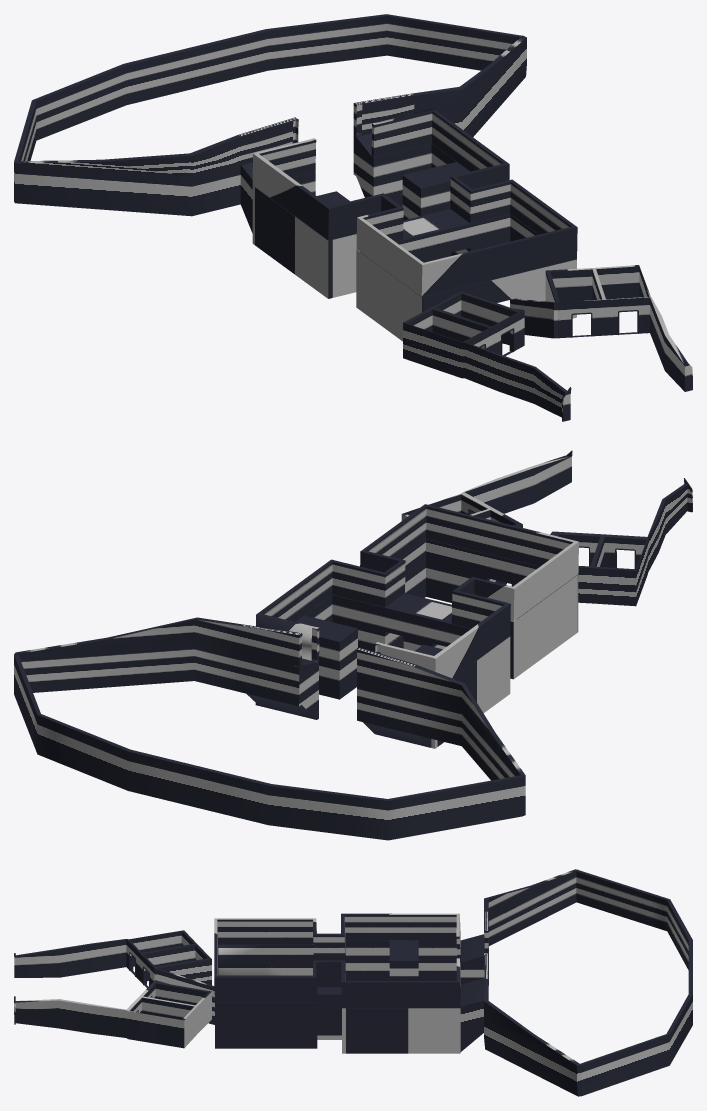
The model's file is ship internals.fbx.
3 views of the same model, one above another, from view 1: azimuth 30°, elevation 25°; view 2: azimuth 150°, elevation 25°; view 3: azimuth 270°, elevation 25° (orthographic). The views are drawn at different scales.
Parts seen in each view (by area): view 1: EngineRoom, Top-Back Room Walls, HangerRoomWalls, Bedrooms_Right, Modular Room, EngineRoomUpperWall, Bedrooms_Left, FrontRoomCorridorWalls, LowerConnectingCorridor; view 2: EngineRoom, Top-Back Room Walls, HangerRoomWalls, EngineRoomUpperWall, Modular Room, Bedrooms_Right, Bedrooms_Left, LowerConnectingCorridor; view 3: EngineRoom, Top-Back Room Walls, HangerRoomWalls, Modular Room, Bedrooms_Left, Bedrooms_Right, EngineRoomUpperWall, LowerConnectingCorridor, FrontRoomCorridorWalls.
Part boxes in pixels (bbox=[...]): EngineRoom: bbox=[14, 14, 526, 233]; Top-Back Room Walls: bbox=[252, 108, 577, 296]; HangerRoomWalls: bbox=[252, 143, 469, 298]; Bedrooms_Right: bbox=[403, 291, 571, 421]; Modular Room: bbox=[356, 213, 576, 341]; EngineRoomUpperWall: bbox=[14, 35, 526, 176]; Bedrooms_Left: bbox=[545, 265, 692, 391]; FrontRoomCorridorWalls: bbox=[502, 298, 557, 346]; LowerConnectingCorridor: bbox=[403, 210, 468, 255]; EngineRoom: bbox=[14, 641, 525, 840]; Top-Back Room Walls: bbox=[256, 504, 578, 678]; HangerRoomWalls: bbox=[255, 594, 510, 748]; EngineRoomUpperWall: bbox=[14, 617, 525, 776]; Modular Room: bbox=[399, 539, 578, 679]; Bedrooms_Right: bbox=[554, 478, 692, 606]; Bedrooms_Left: bbox=[401, 450, 572, 526]; LowerConnectingCorridor: bbox=[387, 594, 451, 649]; EngineRoom: bbox=[460, 870, 692, 1096]; Top-Back Room Walls: bbox=[214, 913, 460, 1007]; HangerRoomWalls: bbox=[342, 940, 460, 1053]; Modular Room: bbox=[215, 944, 317, 1048]; Bedrooms_Left: bbox=[14, 981, 211, 1048]; Bedrooms_Right: bbox=[14, 930, 211, 987]; EngineRoomUpperWall: bbox=[484, 869, 581, 1065]; LowerConnectingCorridor: bbox=[317, 960, 341, 1039]; FrontRoomCorridorWalls: bbox=[154, 967, 214, 1024].
Bounding box in the file's own units: 7065 × 1294 × 10340.
1 material, 1 textured.
